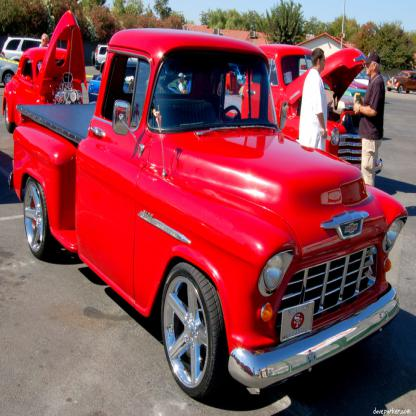Car: (0, 10, 415, 404), (387, 70, 415, 94)
Truck: (13, 28, 409, 403)
